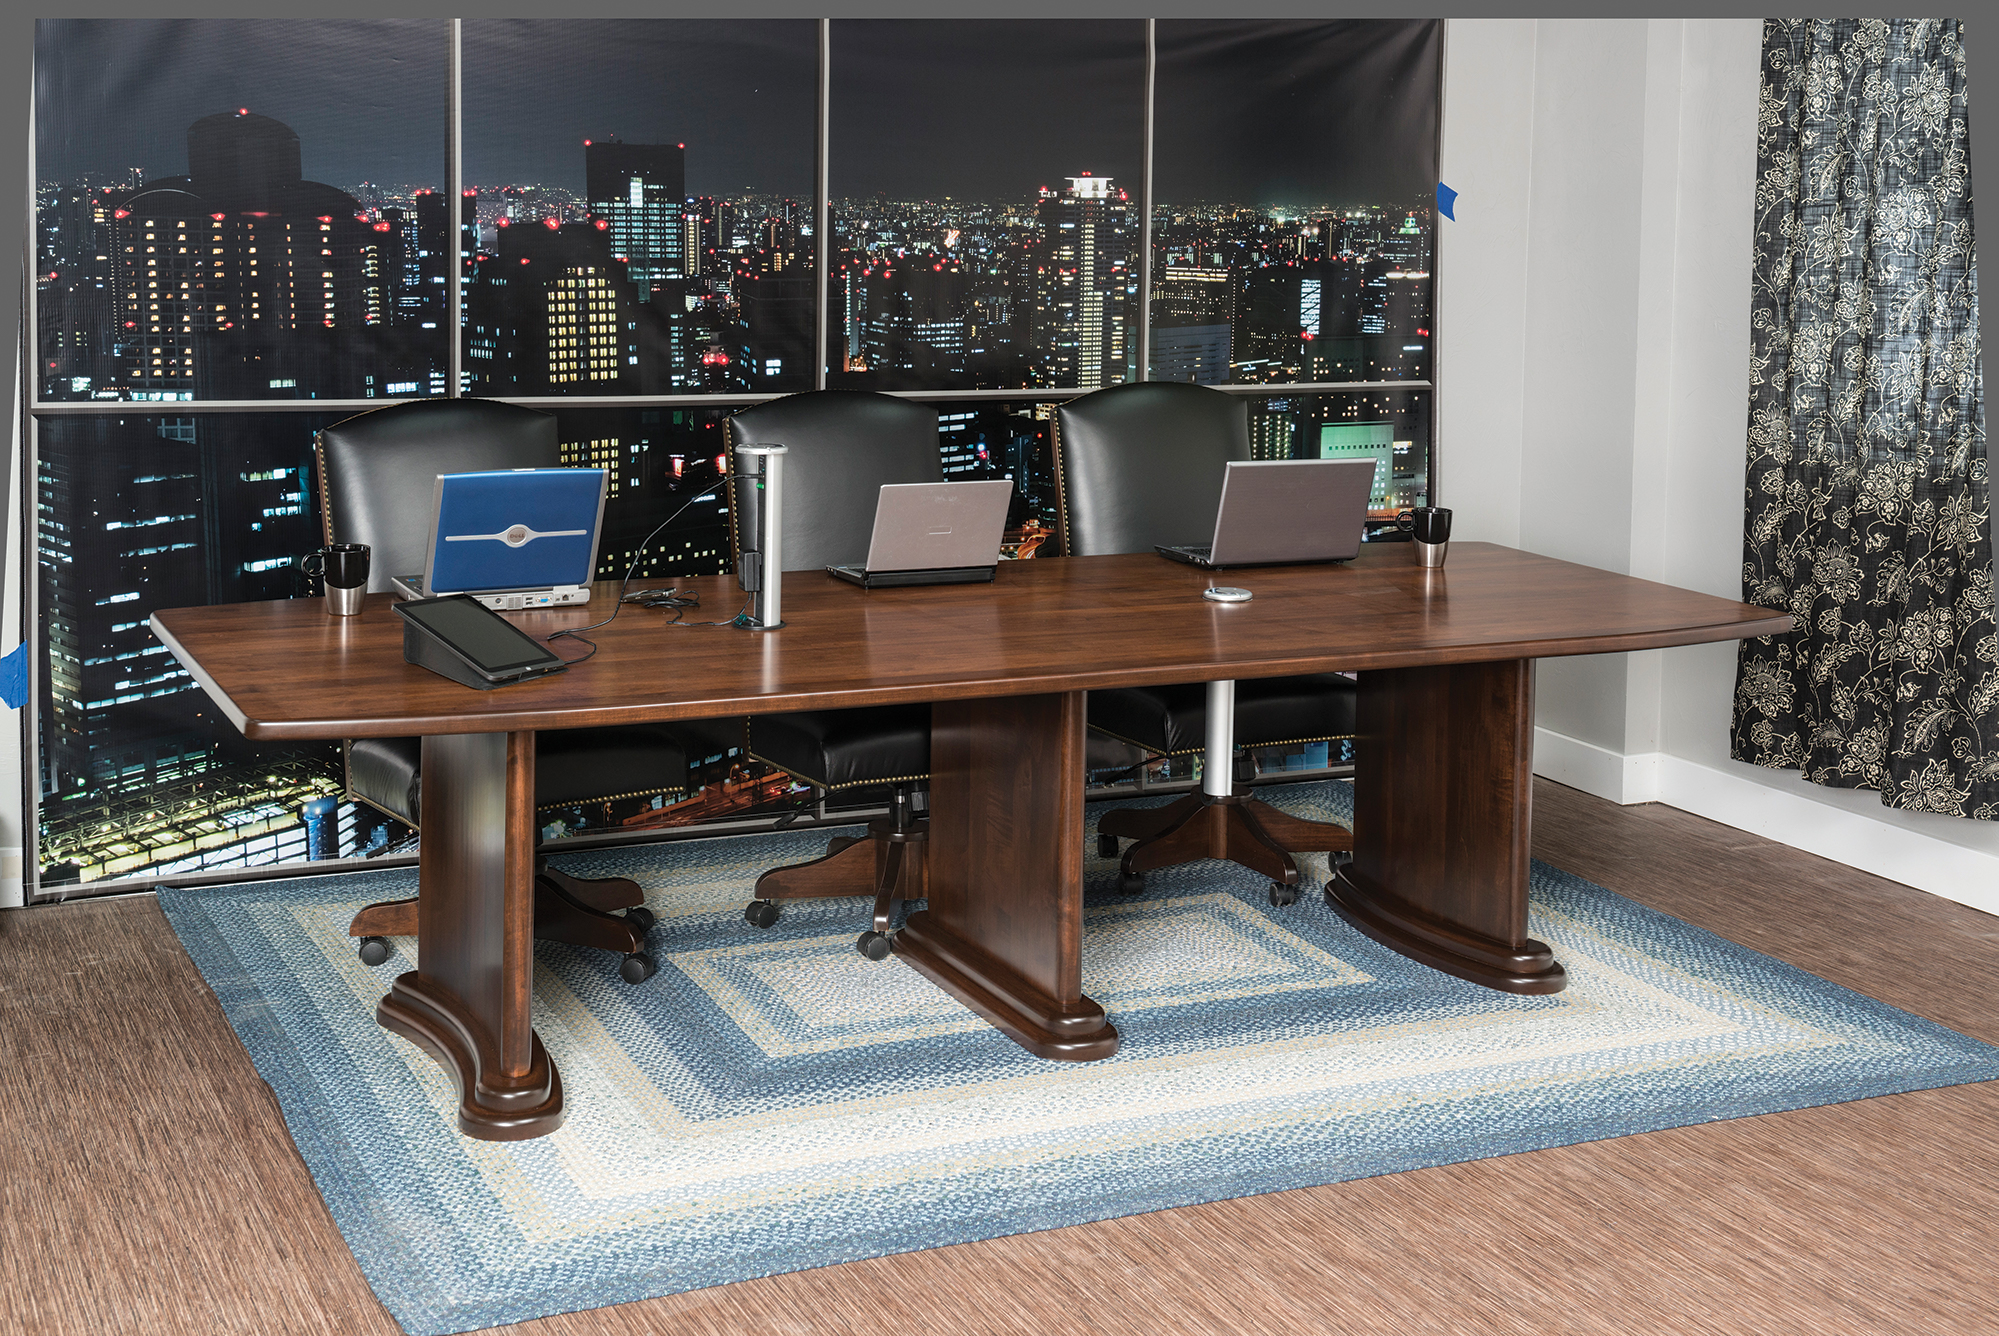conference_table: (150, 542, 1794, 1137)
